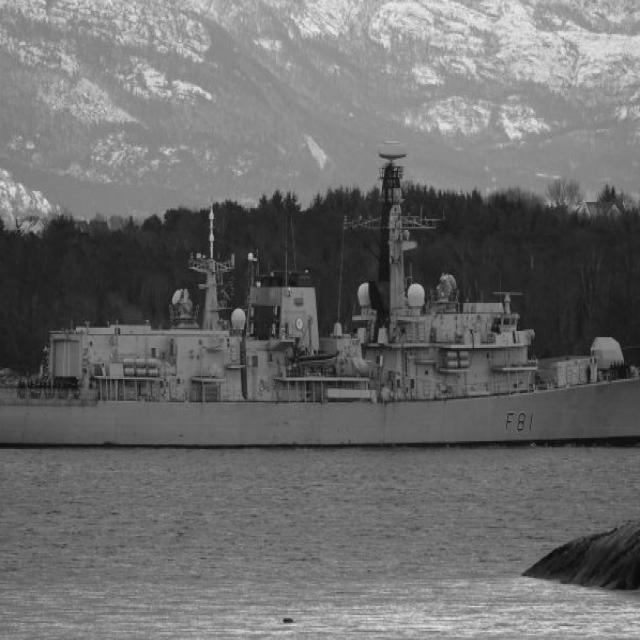Fragata: (1, 149, 640, 455)
